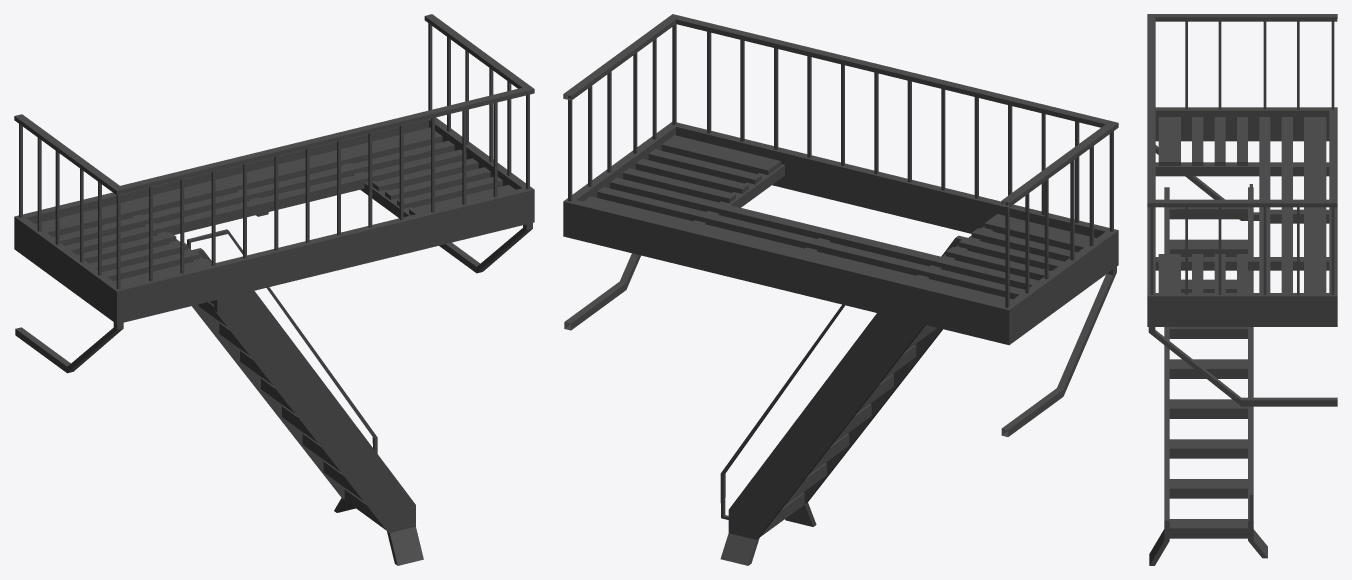
Rendered from fireEscape.fbx.
3 renders of one model, left to right at view 1: azimuth 30°, elevation 25°; view 2: azimuth 150°, elevation 25°; view 3: azimuth 270°, elevation 25°, orthographic. The views are drawn at different scales.
Parts seen in each view (by area): view 1: Platform, Stairs; view 2: Platform, Stairs; view 3: Platform, Stairs.
Boxes of the visible parts, bbox=[...] form: Platform: bbox=[14, 14, 534, 373]; Stairs: bbox=[187, 229, 423, 565]; Platform: bbox=[563, 14, 1118, 436]; Stairs: bbox=[720, 235, 967, 565]; Platform: bbox=[1147, 14, 1337, 406]; Stairs: bbox=[1149, 184, 1267, 565].
Bounding box in the file's own units: 400 × 407 × 170.
